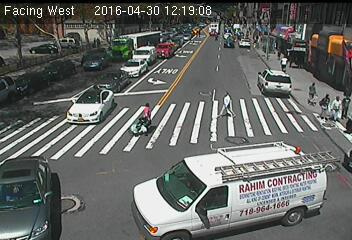neg: (300, 162, 329, 201), (246, 174, 269, 205), (94, 134, 115, 161), (156, 60, 175, 85), (178, 173, 195, 196), (92, 35, 109, 58), (30, 64, 46, 86), (205, 58, 221, 80), (286, 174, 302, 195), (245, 30, 260, 50), (69, 94, 84, 114), (279, 137, 294, 157), (64, 32, 79, 51), (7, 183, 21, 202), (182, 17, 196, 36), (39, 189, 52, 207), (169, 151, 182, 167), (113, 48, 125, 64), (171, 32, 183, 48), (213, 22, 225, 38), (230, 10, 242, 26)
pos: (132, 100, 157, 133), (216, 89, 239, 120), (316, 91, 338, 120), (302, 77, 323, 106), (326, 95, 344, 120), (276, 51, 292, 73), (338, 92, 351, 117)
